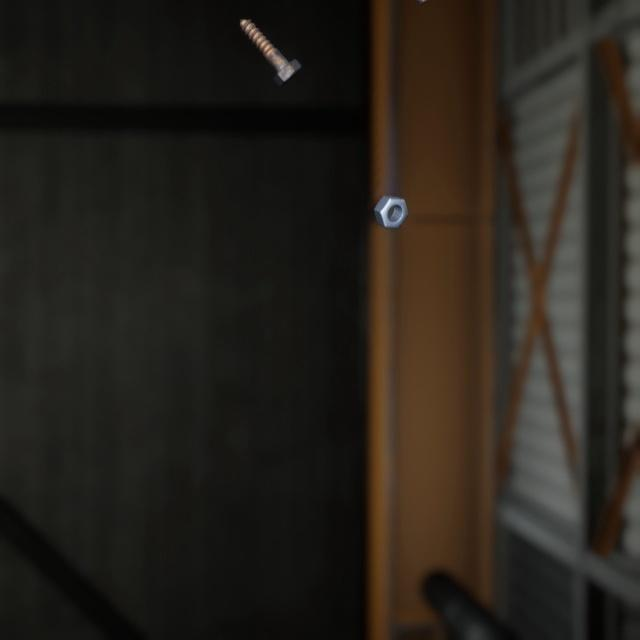bolt: (235, 4, 306, 80)
nut: (369, 176, 412, 218)
